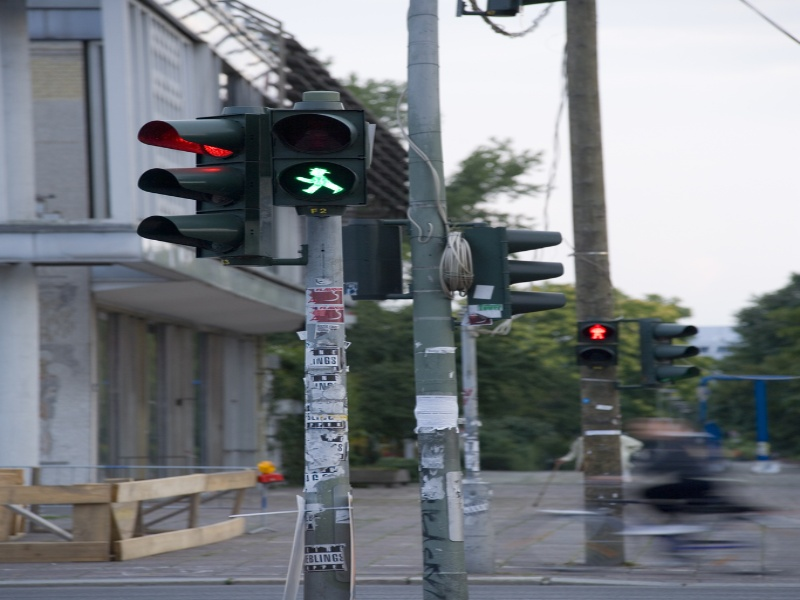pedestrian_crossing_green: (278, 156, 362, 214)
pedestrian_crossing_red: (579, 318, 627, 346)
